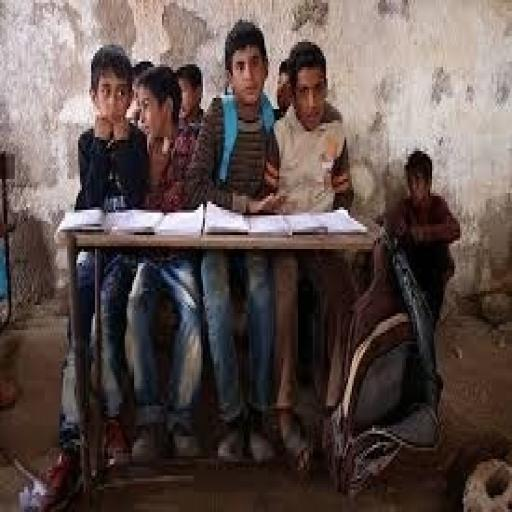sitting: (15, 17, 463, 501), (183, 17, 281, 464), (262, 39, 356, 465)
